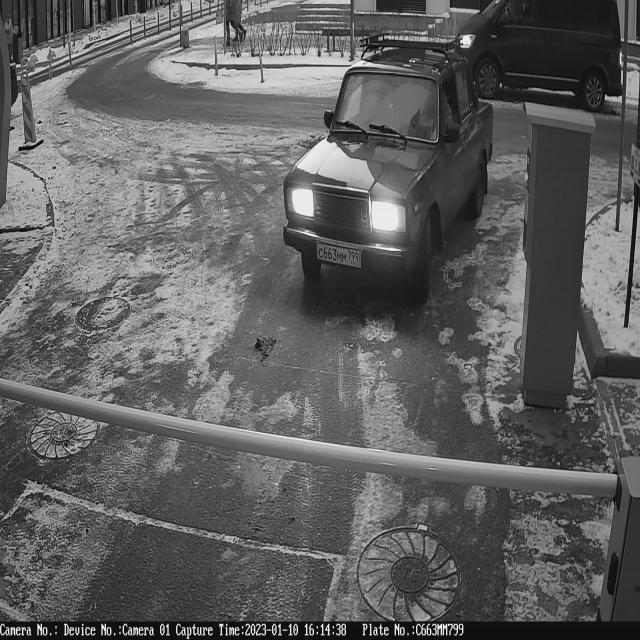car-plate-numbers: (315, 240, 364, 271)
